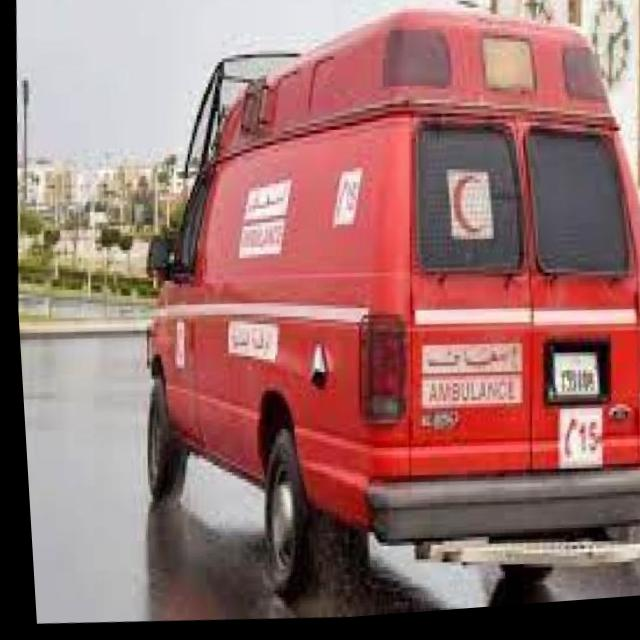ambulance: (93, 0, 640, 635)
